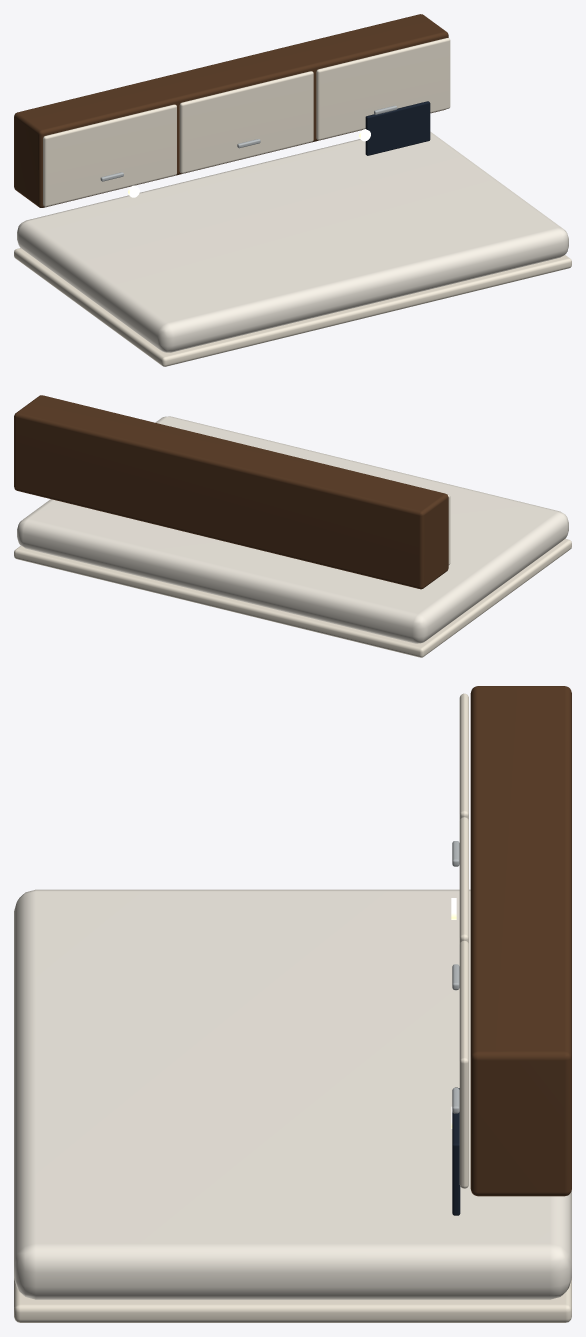
File: alcove_bed.glb
3 views of the same model, one above another, from view 1: azimuth 30°, elevation 25°; view 2: azimuth 150°, elevation 25°; view 3: azimuth 270°, elevation 25° (orthographic). The views are drawn at different scales.
Parts seen in each view (by area): view 1: alcove_bed, alcove_lockers, alcove_bed_details; view 2: alcove_lockers, alcove_bed; view 3: alcove_bed, alcove_lockers, alcove_bed_details.
Part boxes in pixels (x1,y1,x2,y2): alcove_bed: [14, 131, 571, 366]; alcove_lockers: [14, 14, 450, 207]; alcove_bed_details: [128, 101, 430, 197]; alcove_lockers: [14, 395, 450, 589]; alcove_bed: [14, 416, 571, 657]; alcove_bed: [14, 889, 571, 1322]; alcove_lockers: [452, 686, 571, 1196]; alcove_bed_details: [451, 898, 460, 1215].
Bounding box in the file's own units: 2.2 × 0.75 × 1.4.
